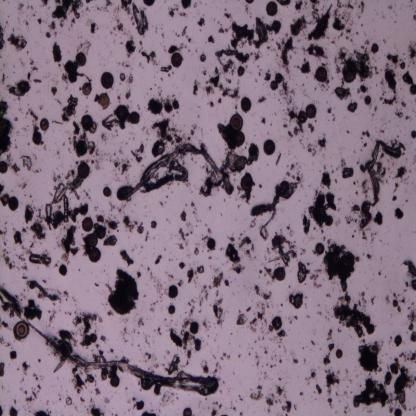Background material: (249, 178, 300, 238), (25, 195, 90, 242), (334, 289, 380, 339), (322, 238, 358, 294), (384, 356, 414, 408), (107, 271, 141, 315), (150, 117, 186, 157), (352, 377, 393, 410), (306, 190, 337, 232), (171, 320, 202, 360), (339, 46, 372, 82), (74, 310, 102, 350), (271, 229, 298, 270), (356, 338, 386, 374), (215, 49, 251, 79), (333, 0, 364, 34), (307, 0, 332, 41), (224, 144, 260, 172), (26, 278, 61, 304), (72, 122, 99, 155), (50, 178, 86, 202), (123, 214, 159, 238), (0, 222, 17, 272), (98, 213, 121, 249), (224, 238, 246, 275), (0, 287, 23, 320), (0, 101, 13, 159), (229, 20, 255, 48), (266, 386, 292, 413), (283, 108, 307, 137), (61, 224, 80, 260), (146, 96, 180, 116), (71, 367, 96, 394), (147, 266, 166, 301), (253, 13, 273, 46), (249, 301, 270, 332), (132, 2, 151, 36), (52, 1, 84, 20), (325, 368, 339, 408), (278, 36, 295, 68), (190, 285, 210, 312), (59, 96, 79, 121), (8, 77, 34, 96), (56, 324, 73, 353), (23, 297, 43, 321), (216, 120, 234, 146), (401, 258, 416, 289), (288, 14, 307, 38), (211, 297, 226, 327), (205, 66, 221, 94), (6, 31, 26, 52), (401, 69, 416, 96), (238, 236, 257, 257), (28, 252, 50, 270), (288, 288, 306, 310), (158, 389, 180, 407), (384, 67, 398, 95), (391, 291, 408, 314), (24, 378, 40, 402), (253, 282, 273, 301), (218, 83, 240, 100), (268, 316, 285, 338), (178, 228, 194, 251), (212, 273, 230, 293), (306, 44, 328, 60), (280, 83, 296, 104), (67, 70, 92, 83), (407, 308, 416, 344), (286, 162, 304, 180), (296, 262, 310, 285), (113, 156, 131, 173), (268, 72, 285, 90), (237, 186, 253, 205), (165, 354, 180, 374), (15, 253, 30, 273), (347, 203, 361, 224), (100, 114, 117, 131), (248, 383, 264, 401), (334, 86, 353, 101), (90, 150, 105, 169), (46, 305, 58, 328), (32, 125, 45, 146), (324, 343, 336, 365), (310, 267, 322, 289), (399, 348, 416, 363), (51, 40, 62, 63), (235, 310, 249, 328), (124, 38, 138, 56), (121, 249, 135, 267), (130, 144, 144, 162), (191, 202, 202, 224), (202, 234, 216, 251), (168, 5, 186, 18), (321, 170, 332, 191), (18, 153, 32, 169), (76, 39, 90, 55), (92, 350, 108, 364), (140, 52, 158, 64), (298, 57, 310, 75), (101, 184, 113, 202), (119, 0, 133, 15), (88, 404, 105, 416), (395, 164, 407, 181), (94, 0, 111, 12), (301, 213, 311, 233), (7, 156, 18, 174), (181, 27, 192, 45), (45, 23, 59, 37), (27, 57, 40, 72), (107, 203, 126, 213), (119, 327, 130, 344), (386, 52, 399, 66), (392, 207, 406, 220), (57, 261, 67, 279), (356, 226, 368, 241), (407, 41, 416, 60), (326, 104, 336, 121), (360, 180, 370, 197), (27, 108, 39, 122), (373, 211, 384, 226), (264, 266, 275, 281), (168, 44, 184, 54), (186, 125, 196, 141), (316, 135, 328, 148), (0, 334, 11, 348), (12, 231, 23, 245), (0, 26, 6, 51), (64, 167, 76, 179), (324, 327, 333, 343), (342, 167, 354, 179), (132, 399, 145, 410), (13, 0, 26, 11), (384, 96, 398, 106), (178, 210, 188, 224), (101, 367, 109, 384), (264, 249, 273, 264), (383, 370, 392, 385), (142, 333, 151, 348), (389, 406, 404, 415), (186, 268, 195, 283), (192, 78, 199, 97), (318, 81, 330, 92), (183, 404, 194, 416), (160, 63, 172, 74), (9, 404, 20, 416), (348, 101, 358, 114), (34, 408, 50, 416), (114, 21, 123, 35), (306, 368, 315, 382), (61, 289, 72, 300), (18, 180, 29, 191), (58, 72, 68, 84), (200, 359, 208, 374), (357, 83, 369, 93), (206, 32, 216, 44), (22, 360, 30, 375), (9, 347, 17, 362), (244, 5, 253, 18), (254, 49, 262, 63), (392, 181, 400, 195), (48, 119, 62, 127), (370, 230, 378, 244), (308, 142, 316, 156), (120, 60, 131, 70), (83, 189, 93, 200), (149, 303, 159, 314), (88, 23, 97, 35), (20, 245, 32, 254), (30, 167, 42, 176), (249, 215, 256, 230), (0, 360, 5, 381), (50, 85, 58, 98), (180, 0, 193, 8), (141, 410, 158, 416), (362, 36, 372, 46), (196, 264, 205, 275), (299, 246, 308, 257), (119, 75, 133, 82), (284, 68, 291, 82), (371, 104, 378, 118), (334, 58, 341, 72), (214, 362, 222, 374), (154, 384, 162, 396), (100, 132, 108, 144), (254, 335, 266, 343), (228, 400, 236, 412), (295, 0, 303, 12), (379, 77, 384, 96), (219, 352, 232, 359), (219, 25, 229, 34), (275, 0, 290, 6), (394, 110, 404, 119), (101, 395, 110, 405), (154, 254, 163, 264), (0, 320, 10, 329), (223, 12, 233, 21), (65, 395, 73, 406), (364, 95, 372, 106), (340, 157, 348, 168), (124, 89, 131, 101), (118, 121, 127, 130), (384, 295, 392, 305), (30, 372, 40, 380), (258, 95, 266, 105), (298, 138, 306, 148), (308, 123, 315, 134), (178, 262, 187, 270), (0, 71, 6, 83), (136, 318, 145, 326), (372, 43, 378, 55), (193, 276, 199, 288), (399, 61, 407, 70), (254, 350, 258, 368), (144, 352, 153, 360), (99, 334, 108, 342), (51, 172, 60, 180), (38, 0, 48, 7), (373, 65, 380, 75), (213, 401, 223, 408), (315, 384, 322, 394), (277, 337, 283, 348), (265, 46, 276, 52), (156, 326, 162, 337), (400, 100, 408, 108), (376, 268, 384, 276), (22, 18, 30, 26), (392, 194, 400, 202), (166, 272, 174, 280), (140, 126, 148, 134), (264, 72, 271, 81), (338, 34, 347, 41), (203, 321, 210, 330), (410, 130, 416, 140), (211, 406, 217, 416), (62, 310, 72, 316), (260, 115, 266, 125), (194, 247, 200, 257), (33, 78, 43, 84), (352, 178, 359, 186), (198, 18, 205, 26), (334, 219, 342, 226), (158, 200, 165, 208), (199, 54, 206, 62), (184, 44, 191, 52), (292, 357, 300, 364), (270, 336, 278, 343), (362, 141, 370, 148), (206, 100, 214, 107), (245, 0, 256, 5), (287, 315, 293, 324), (159, 31, 165, 40), (178, 279, 184, 288), (340, 79, 346, 88), (404, 175, 410, 184), (18, 58, 24, 67), (165, 216, 171, 225), (262, 345, 268, 354), (300, 46, 306, 54), (404, 114, 410, 122), (192, 1, 198, 9), (269, 362, 277, 368), (364, 130, 370, 138), (224, 78, 232, 84), (125, 398, 133, 404), (301, 356, 307, 364), (174, 30, 180, 38), (96, 387, 102, 395), (0, 404, 4, 415), (347, 36, 354, 42), (189, 154, 195, 161), (346, 28, 352, 35), (78, 395, 84, 402), (213, 267, 220, 273), (93, 282, 100, 288), (27, 70, 31, 80), (0, 184, 5, 192), (366, 252, 371, 260), (12, 116, 18, 122), (36, 17, 42, 23), (402, 151, 408, 157), (310, 340, 316, 346), (256, 268, 262, 274), (68, 135, 72, 144), (385, 166, 391, 172), (158, 86, 162, 95), (107, 312, 113, 318), (390, 18, 396, 24), (263, 372, 268, 379), (389, 3, 394, 10), (298, 391, 305, 396), (27, 6, 34, 11), (412, 14, 416, 22), (186, 358, 190, 366), (294, 402, 298, 410), (322, 234, 326, 242), (382, 273, 387, 279), (94, 92, 97, 102), (26, 142, 32, 147), (286, 225, 292, 230), (208, 206, 213, 212), (181, 160, 186, 166), (312, 249, 317, 255), (238, 395, 243, 401), (336, 196, 342, 201), (379, 96, 384, 102), (137, 344, 142, 350), (325, 293, 331, 298), (217, 97, 221, 104), (89, 398, 96, 402), (22, 276, 29, 280), (221, 413, 230, 416), (379, 128, 384, 133), (354, 191, 359, 196), (239, 232, 244, 237), (160, 76, 164, 82), (116, 94, 120, 100), (383, 38, 387, 44), (61, 140, 65, 146), (137, 103, 140, 111), (127, 407, 131, 413), (66, 148, 72, 152), (235, 104, 239, 110), (255, 77, 259, 83), (164, 45, 167, 53), (208, 256, 212, 262), (305, 302, 308, 309), (216, 290, 219, 297), (162, 246, 166, 251), (37, 358, 41, 363), (238, 353, 242, 358), (412, 160, 416, 165), (184, 202, 188, 207), (269, 122, 273, 127), (408, 169, 413, 173), (239, 411, 243, 416), (258, 184, 262, 189), (327, 240, 331, 245), (258, 71, 262, 76), (218, 211, 222, 216), (278, 376, 282, 381), (154, 28, 158, 33), (208, 229, 212, 234), (314, 85, 318, 90), (162, 317, 166, 322), (273, 110, 277, 115), (322, 165, 326, 170), (167, 73, 171, 78), (85, 0, 91, 3), (334, 167, 340, 170), (248, 350, 251, 356), (301, 347, 305, 351), (316, 302, 320, 306), (411, 61, 415, 65), (204, 68, 206, 76), (332, 41, 336, 45), (346, 130, 350, 134), (55, 152, 59, 156), (32, 13, 36, 17), (354, 229, 358, 233), (278, 359, 282, 363), (194, 49, 198, 53), (294, 316, 298, 320), (238, 206, 242, 210), (270, 356, 273, 361), (232, 370, 235, 375), (110, 348, 113, 353), (379, 256, 382, 261), (404, 200, 409, 203), (334, 179, 337, 184), (14, 400, 17, 405), (260, 370, 263, 375), (284, 412, 287, 416), (26, 50, 29, 54), (331, 76, 334, 80), (266, 362, 269, 366), (332, 170, 335, 174), (165, 194, 168, 198), (220, 248, 224, 251), (222, 381, 226, 384), (136, 332, 140, 335), (409, 0, 413, 3), (231, 332, 235, 335), (198, 28, 202, 31), (386, 180, 389, 184), (143, 294, 146, 298), (172, 71, 174, 76), (133, 328, 135, 333), (274, 353, 276, 358), (282, 302, 284, 307), (352, 233, 354, 238), (319, 170, 322, 173), (379, 239, 382, 242), (251, 347, 254, 350), (5, 21, 8, 24), (197, 115, 200, 118), (213, 339, 216, 342), (206, 397, 209, 400), (210, 266, 212, 270), (150, 87, 152, 91), (355, 162, 359, 164), (288, 284, 290, 288), (257, 65, 259, 69), (141, 246, 143, 250), (208, 406, 210, 410), (262, 365, 264, 368), (397, 135, 399, 138), (154, 84, 157, 86), (301, 84, 304, 86), (220, 391, 222, 394), (224, 9, 227, 11), (315, 120, 317, 122), (305, 296, 307, 298)
Cellulose filter fibre: (17, 314, 217, 391), (116, 139, 232, 201), (360, 141, 404, 228)
Cotton: (146, 173, 173, 193)
Diatom: (100, 70, 116, 88), (115, 104, 129, 124), (76, 161, 90, 178), (14, 321, 28, 338), (262, 138, 276, 155), (342, 67, 357, 82), (314, 66, 329, 81), (129, 110, 143, 126), (82, 114, 94, 132), (231, 113, 243, 131), (233, 131, 245, 149), (170, 52, 183, 68), (240, 96, 253, 112), (275, 264, 286, 282), (99, 92, 110, 110), (53, 360, 67, 374), (74, 51, 88, 65), (265, 1, 278, 16), (241, 174, 253, 190), (89, 247, 101, 262), (271, 18, 282, 34), (82, 81, 93, 96), (82, 216, 93, 231), (168, 284, 179, 298), (64, 60, 75, 74), (87, 233, 98, 247), (306, 103, 316, 118), (96, 224, 106, 238), (9, 196, 18, 211), (39, 117, 49, 130), (298, 110, 307, 124), (110, 376, 120, 388), (280, 179, 288, 193), (1, 192, 9, 206), (0, 159, 8, 173), (316, 243, 324, 254), (276, 152, 282, 166), (143, 0, 155, 7), (394, 336, 402, 346), (168, 305, 176, 314), (336, 348, 342, 358)
